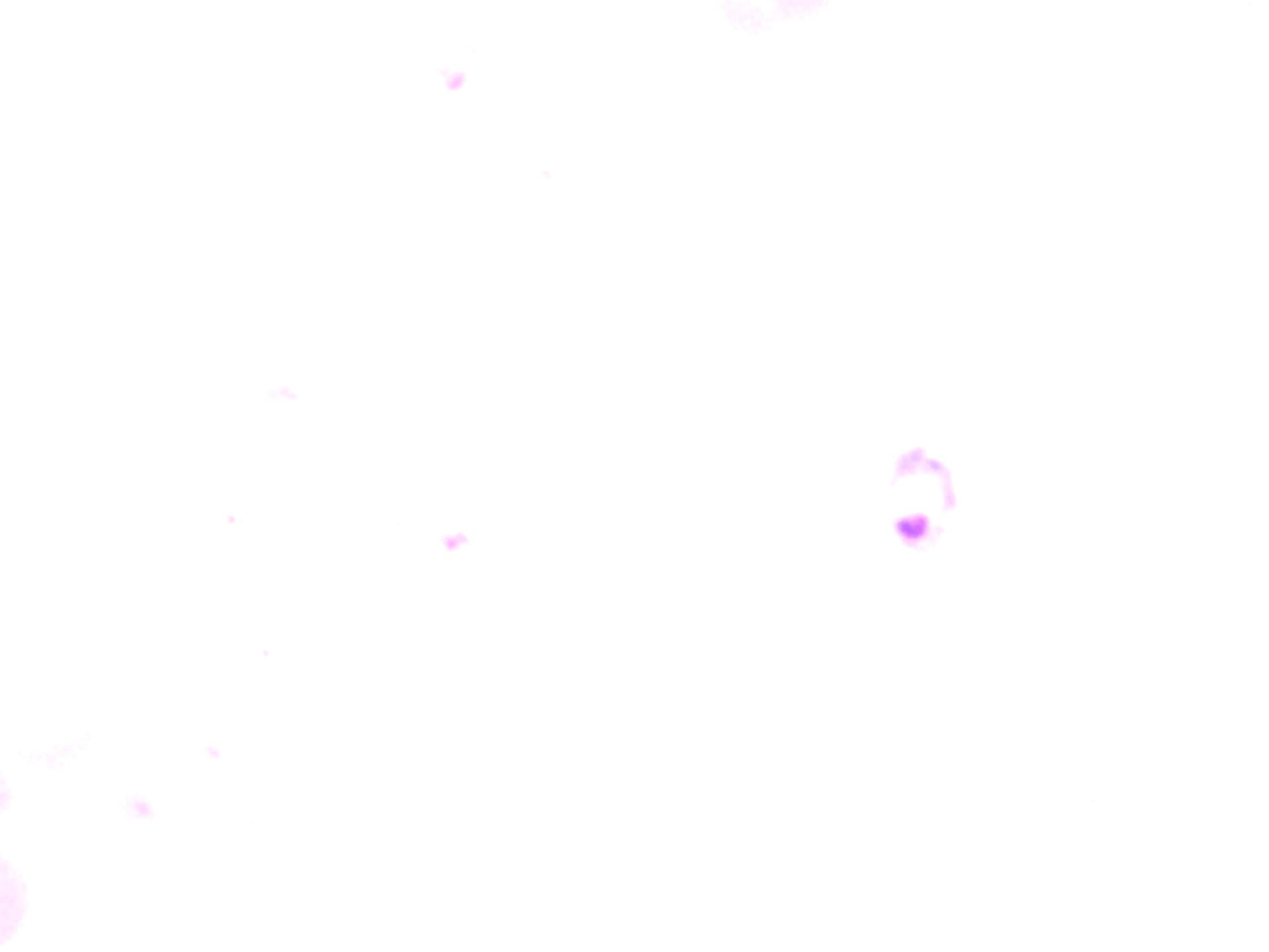Infected: (883, 446, 970, 561)
